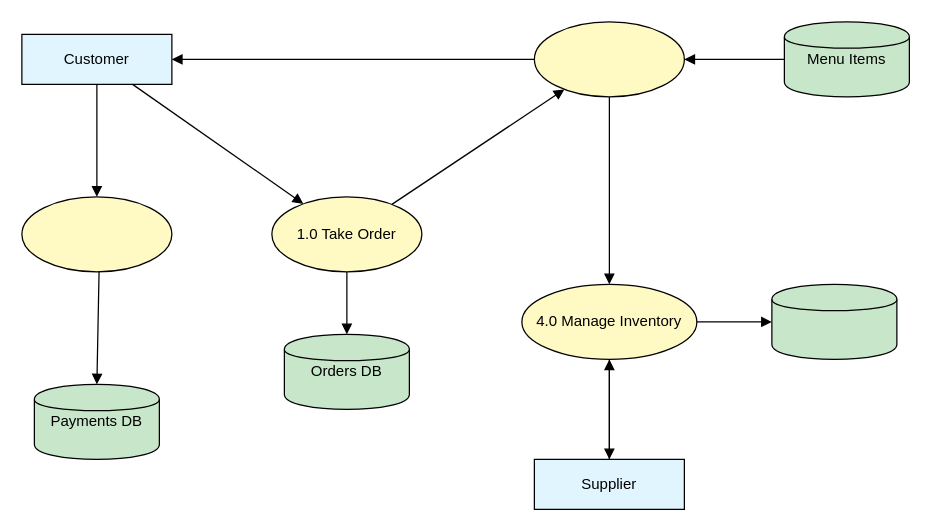
The diagram is 931 pixels wide and 531 high, and some of its shapes have lost their labels. The box of each missing label's shape, as (x1, y1, x2, y2) in pixels:
2.0 Prepare Order: (533, 21, 684, 97)
3.0 Process Payment: (21, 196, 172, 272)
Inventory DB: (771, 283, 897, 359)
